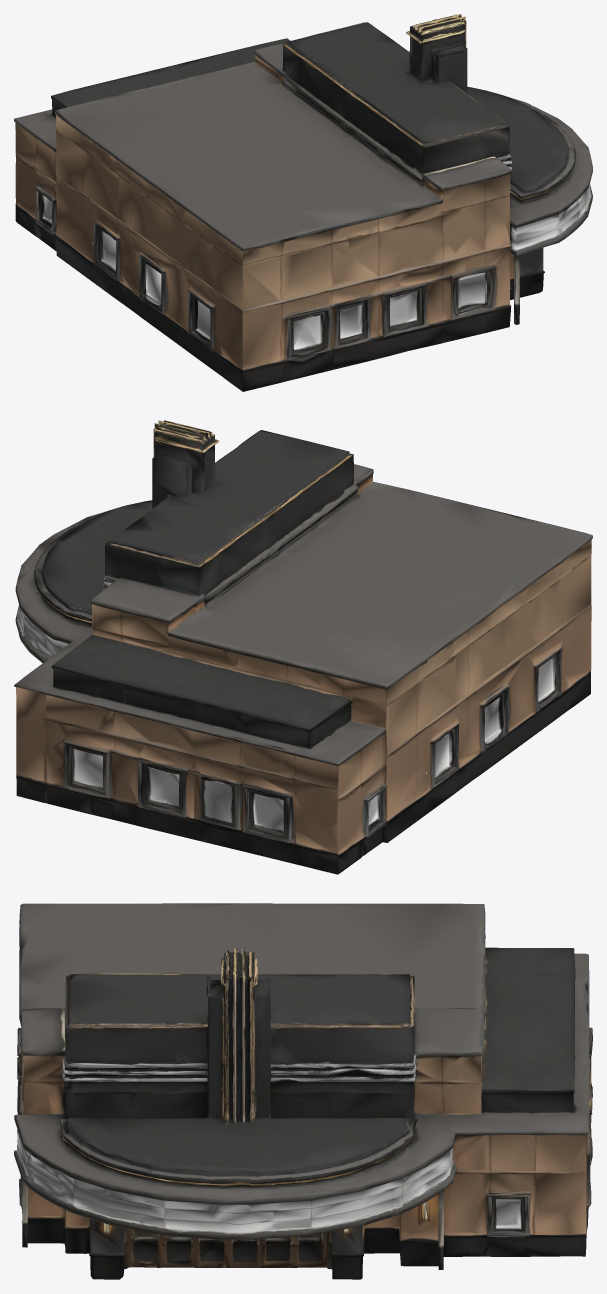
Rendered from cinema_lod1.glb.
3 views of the same model, one above another, from view 1: azimuth 30°, elevation 25°; view 2: azimuth 150°, elevation 25°; view 3: azimuth 270°, elevation 25° (orthographic). The views are drawn at different scales.
Parts seen in each view (by area): view 1: tripo_node_8db9cc81-a424-41ee-9432-07786de86a19; view 2: tripo_node_8db9cc81-a424-41ee-9432-07786de86a19; view 3: tripo_node_8db9cc81-a424-41ee-9432-07786de86a19.
Part boxes in pixels (x1=…): tripo_node_8db9cc81-a424-41ee-9432-07786de86a19: x1=14, y1=14, x2=592, y2=391; tripo_node_8db9cc81-a424-41ee-9432-07786de86a19: x1=14, y1=420, x2=592, y2=874; tripo_node_8db9cc81-a424-41ee-9432-07786de86a19: x1=14, y1=903, x2=592, y2=1279.
Size of the model in its own units: 21.79 by 11.99 by 21.49.
1 material, 1 textured.
